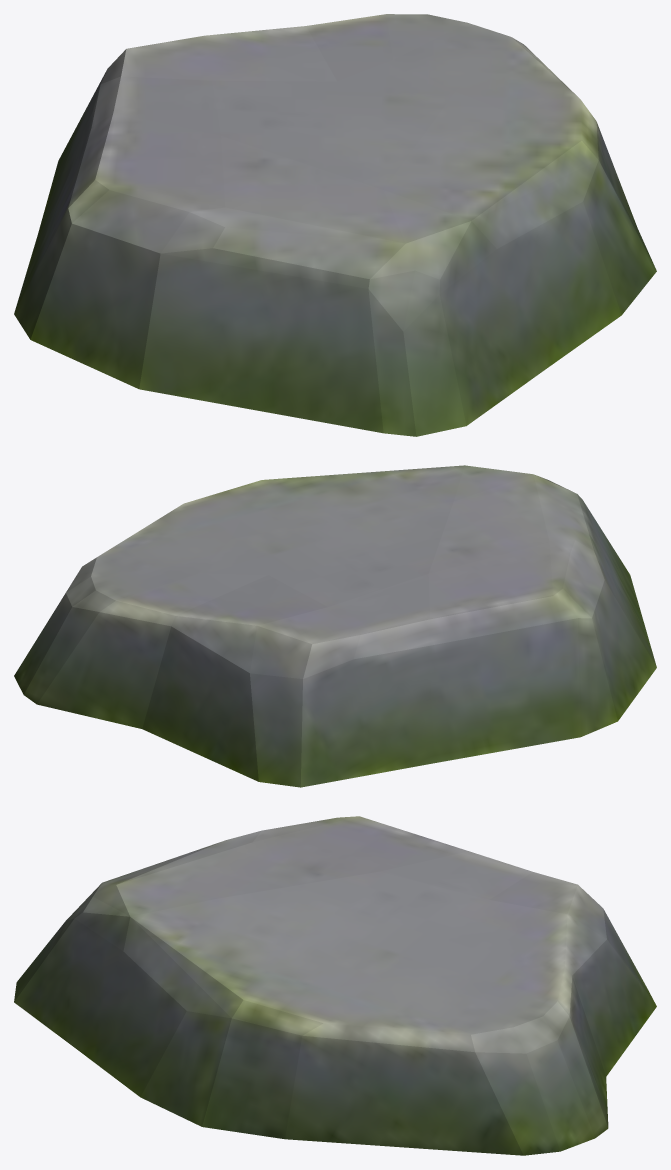
The model's file is Pebble_Round_3.gltf.
3 views of the same model, one above another, from view 1: azimuth 30°, elevation 25°; view 2: azimuth 150°, elevation 25°; view 3: azimuth 270°, elevation 25° (orthographic). The views are drawn at different scales.
Parts seen in each view (by area): view 1: Pebble_Round_3; view 2: Pebble_Round_3; view 3: Pebble_Round_3.
Part boxes in pixels (bbox=[...]): Pebble_Round_3: bbox=[14, 14, 656, 436]; Pebble_Round_3: bbox=[14, 465, 656, 787]; Pebble_Round_3: bbox=[14, 816, 656, 1155].
Size of the model in its own units: 0.4497 by 0.0986 by 0.4848.
Materials: 1 (1 with a texture image).
